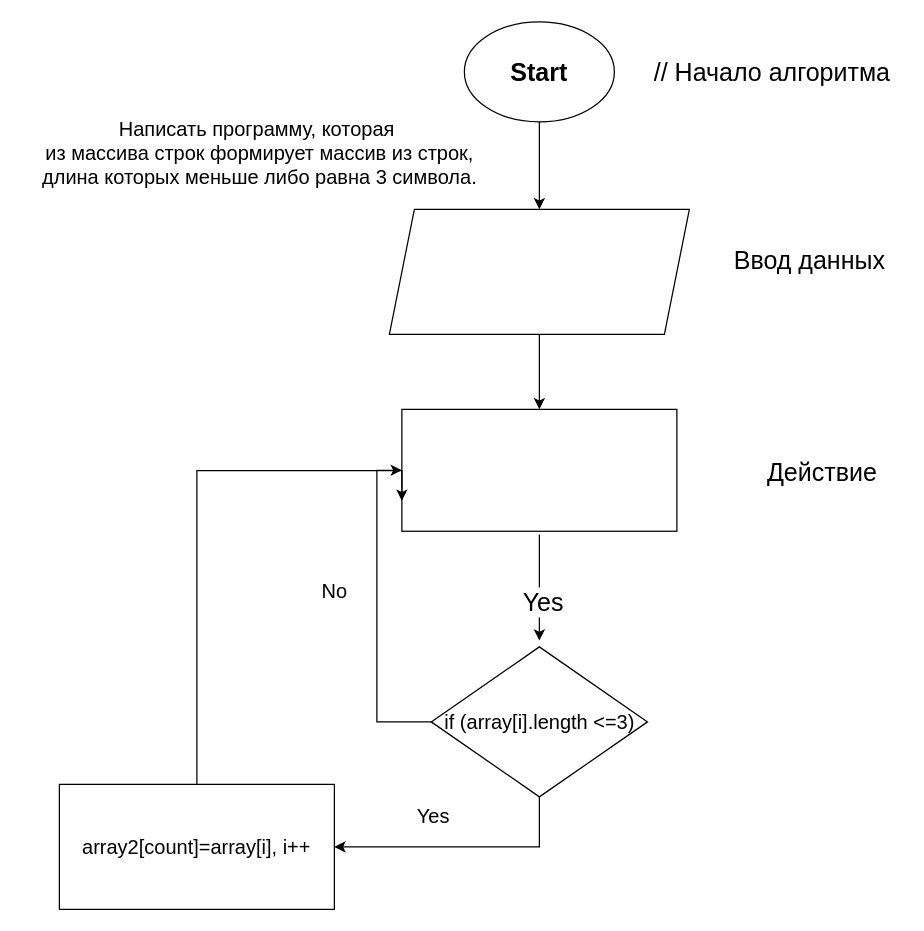
Some shapes in this 924 by 931 pixel diagram are drawn without their labels. Each missing label, with the box of its shape:
array array2 int count = 0: (388, 208, 689, 334)
for (int i = 0, i < array.length, i++): (401, 408, 677, 531)
